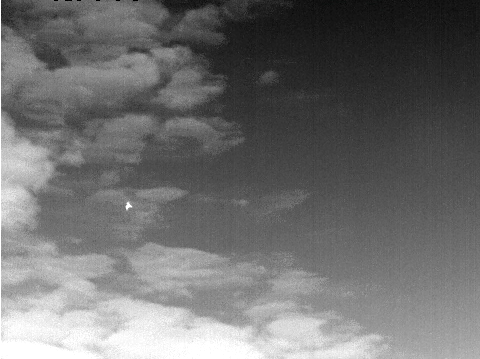dim target: (123, 200, 134, 212)
